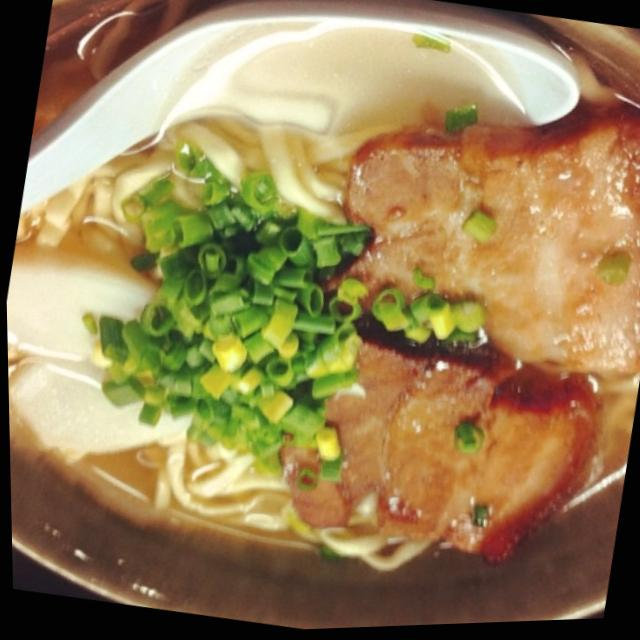蔬菜料理: (15, 0, 628, 640)
